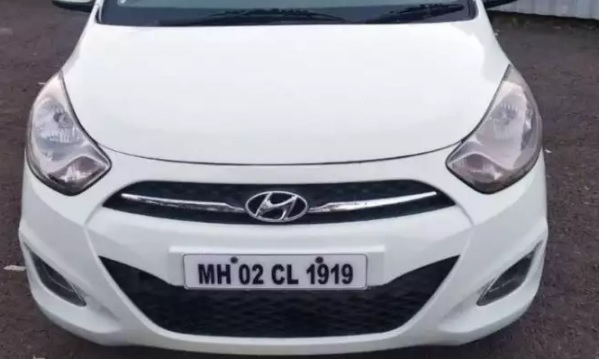licenseplate: (181, 255, 370, 293)
